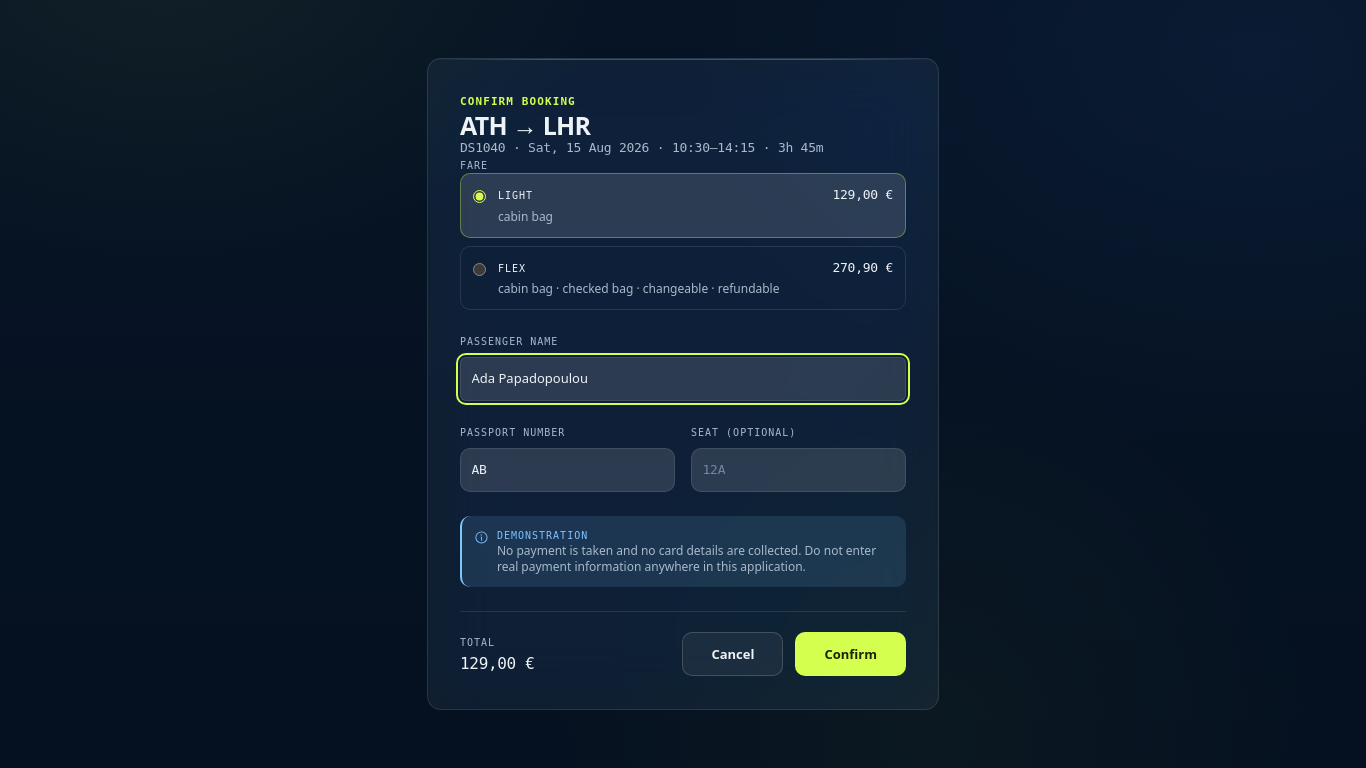
it: BookingDialog › passenger details › refuses a passport number that is too short
The image size is (1366, 768).
Click the button "Confirm" at (851, 654), box [796,632,906,676]
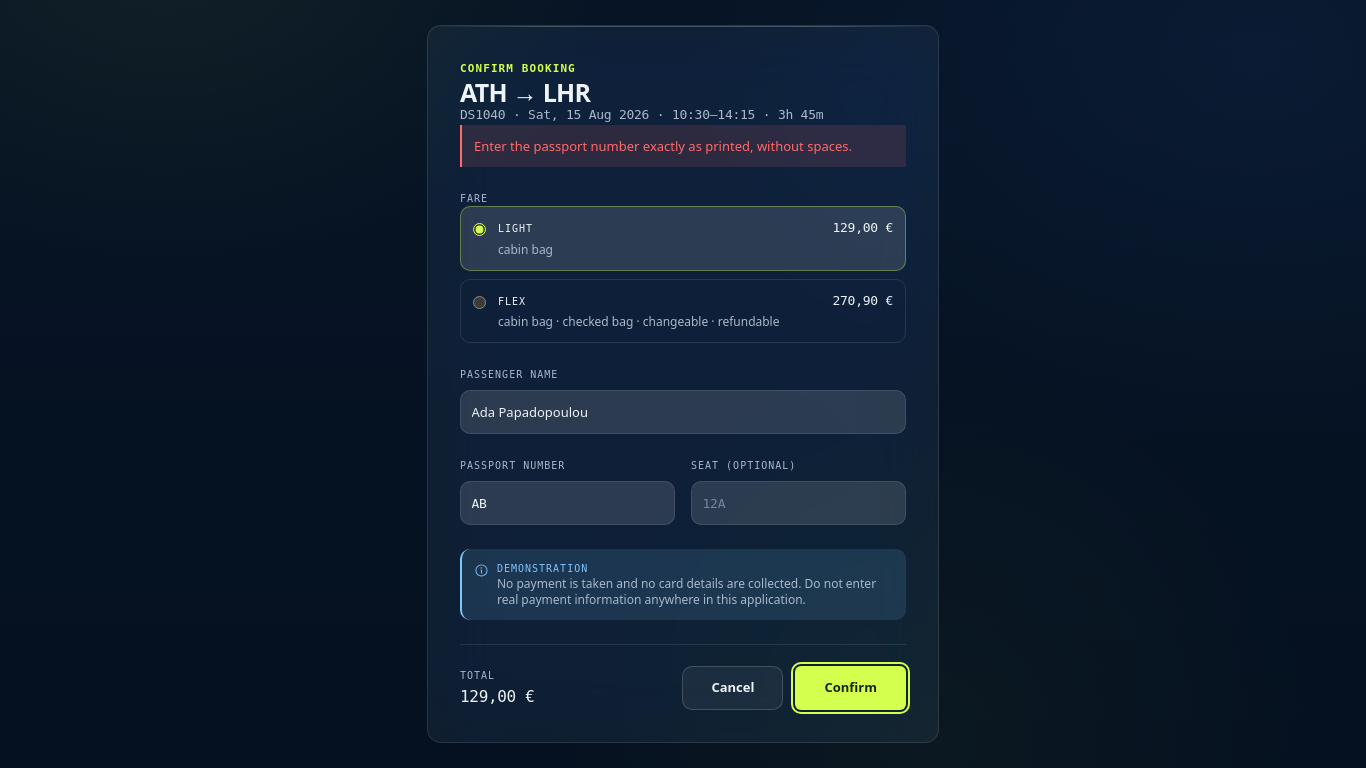
Now the message shows "passport number", box [474,137,852,155]
